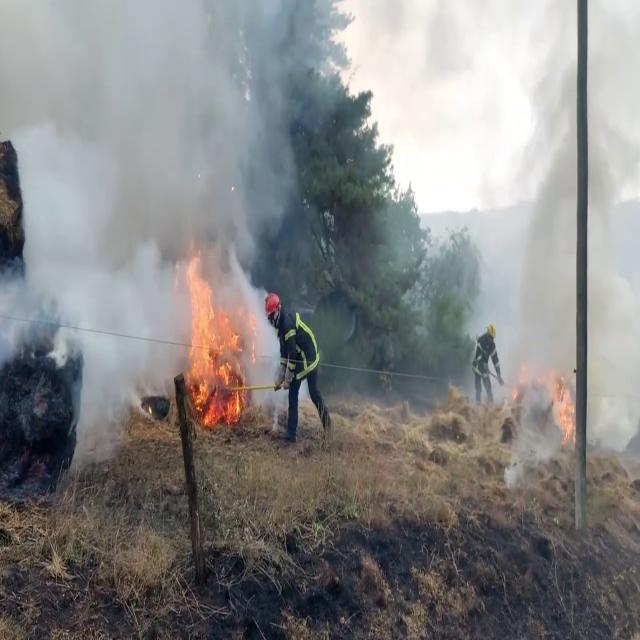Fire: (178, 250, 246, 428), (540, 357, 577, 449)
Smoke: (0, 0, 309, 436), (484, 2, 640, 488)
